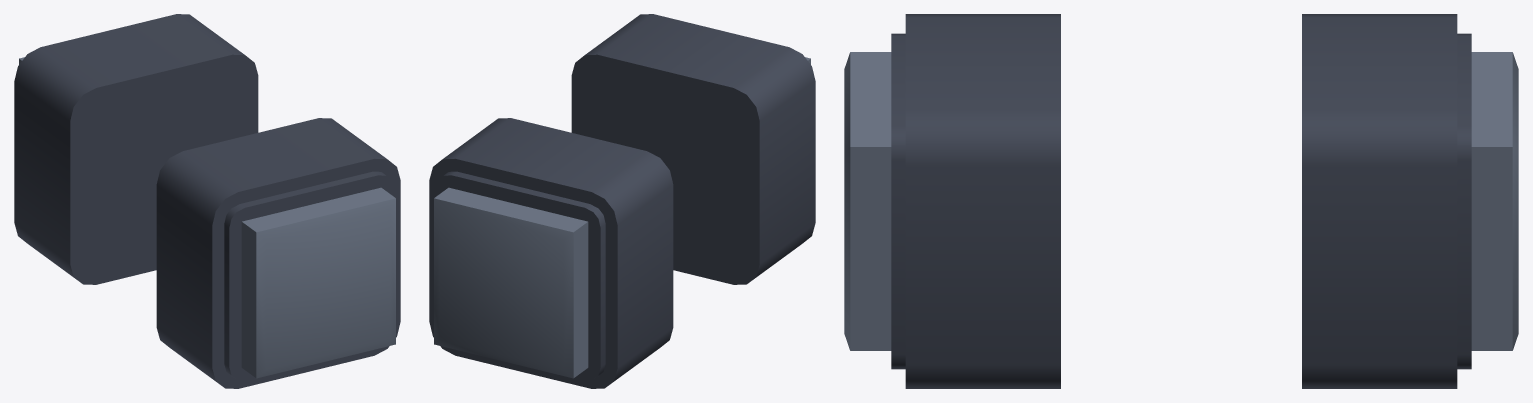
The model's file is Button.fbx.
The picture shows the model from 3 angles, left to right: view 1: azimuth 30°, elevation 25°; view 2: azimuth 150°, elevation 25°; view 3: azimuth 270°, elevation 25°; orthographic projection. The views are drawn at different scales.
Parts seen in each view (by area): view 1: Cube.075; view 2: Cube.075; view 3: Cube.075.
Boxes of the visible parts, x1,y1,x2,y2 form: Cube.075: [14, 14, 400, 388]; Cube.075: [429, 14, 815, 388]; Cube.075: [844, 14, 1518, 388].
Bounding box in the file's own units: 38.24 × 38.24 × 85.07.
